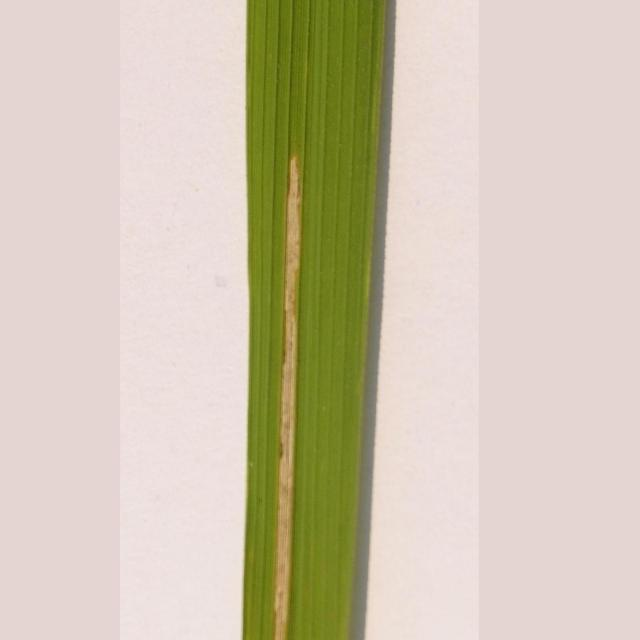leaf blight: (251, 146, 320, 639)
